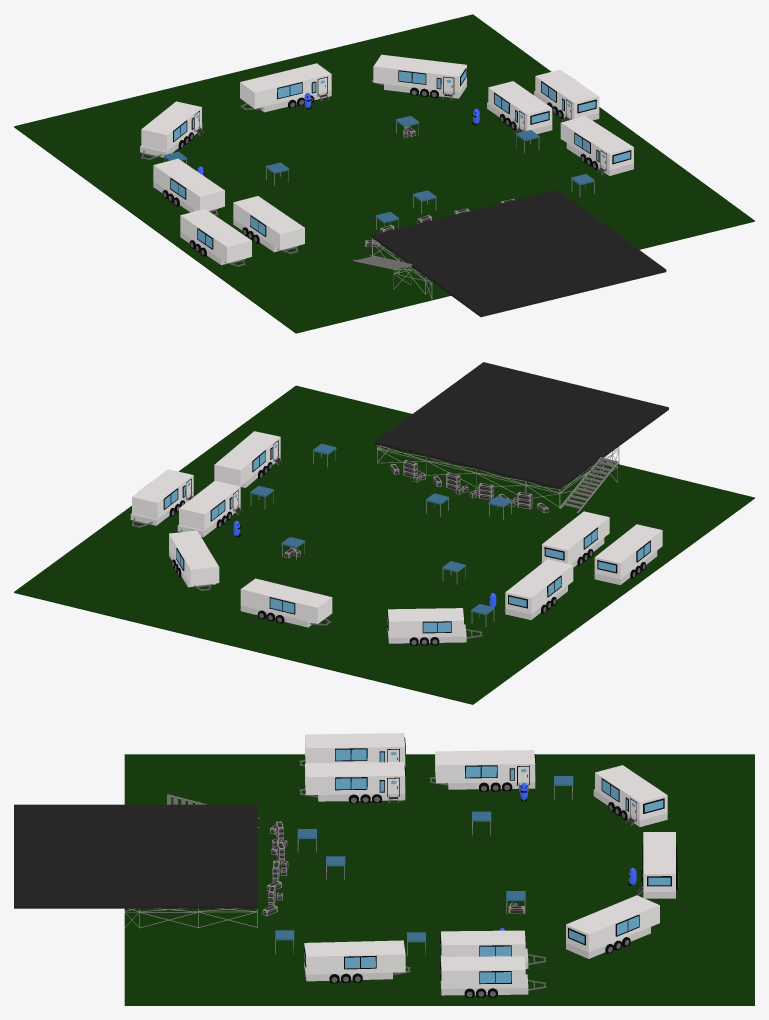
The picture shows the model from 3 angles, top to bottom: view 1: azimuth 30°, elevation 25°; view 2: azimuth 150°, elevation 25°; view 3: azimuth 270°, elevation 25°; orthographic projection. The views are drawn at different scales.
Visible parts, largest first — view 1: Ground, Box, Body (×9); view 2: Ground, Box, Body (×9); view 3: Ground, Box, Body (×12).
Boxes of the visible parts, <box> form: Ground: <box>14,14,754,333</box>; Box: <box>371,190,666,317</box>; Body (×9): <box>141,54,633,263</box>; Ground: <box>14,385,754,704</box>; Box: <box>374,362,668,489</box>; Body (×9): <box>132,431,662,637</box>; Ground: <box>124,754,754,1005</box>; Box: <box>14,804,257,908</box>; Body (×12): <box>304,733,675,995</box>.
Bounding box in the file's own units: 470 × 34.36 × 588.
